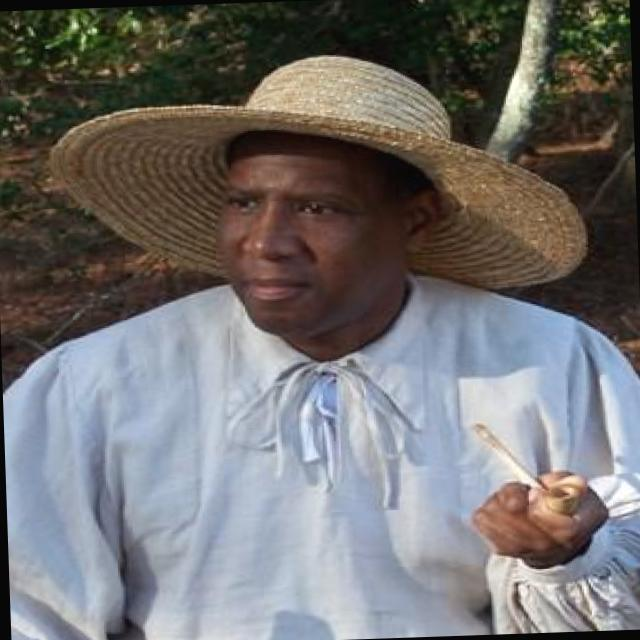cigarette: (457, 404, 560, 500)
